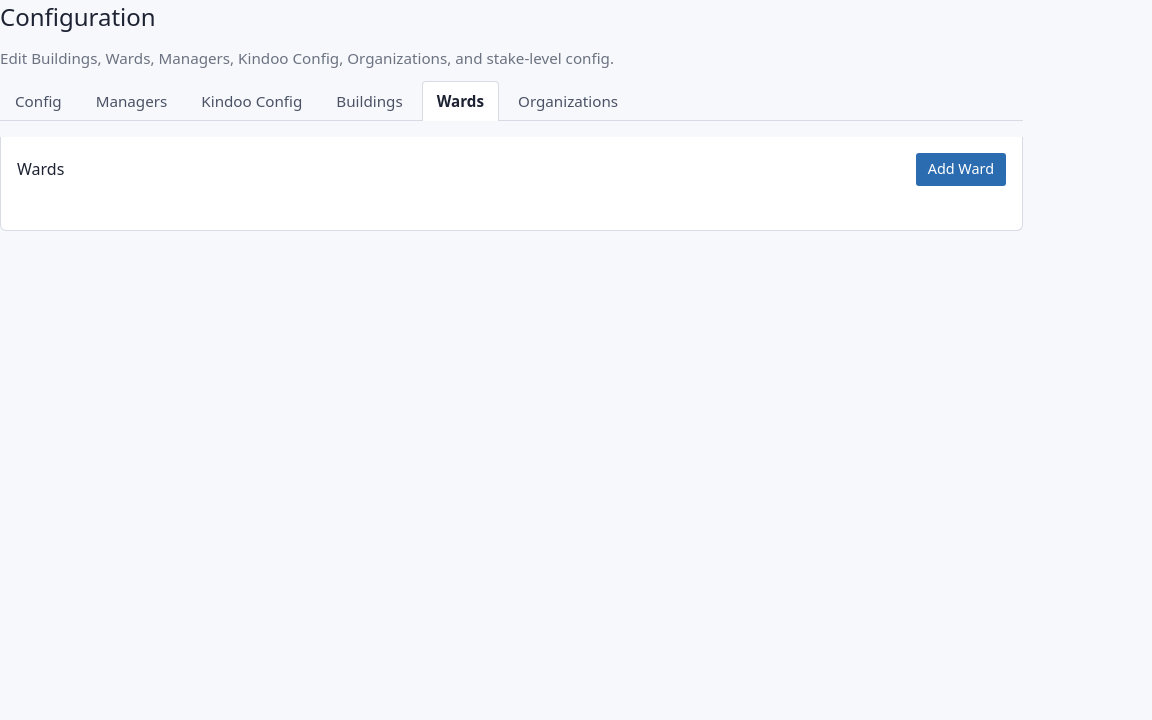
<ConfigurationPage /> › shows ward-form validation error on empty submit (modal-driven)
Click the button with test id "config-wards-add-button": (961, 169) [916, 153, 1006, 186]
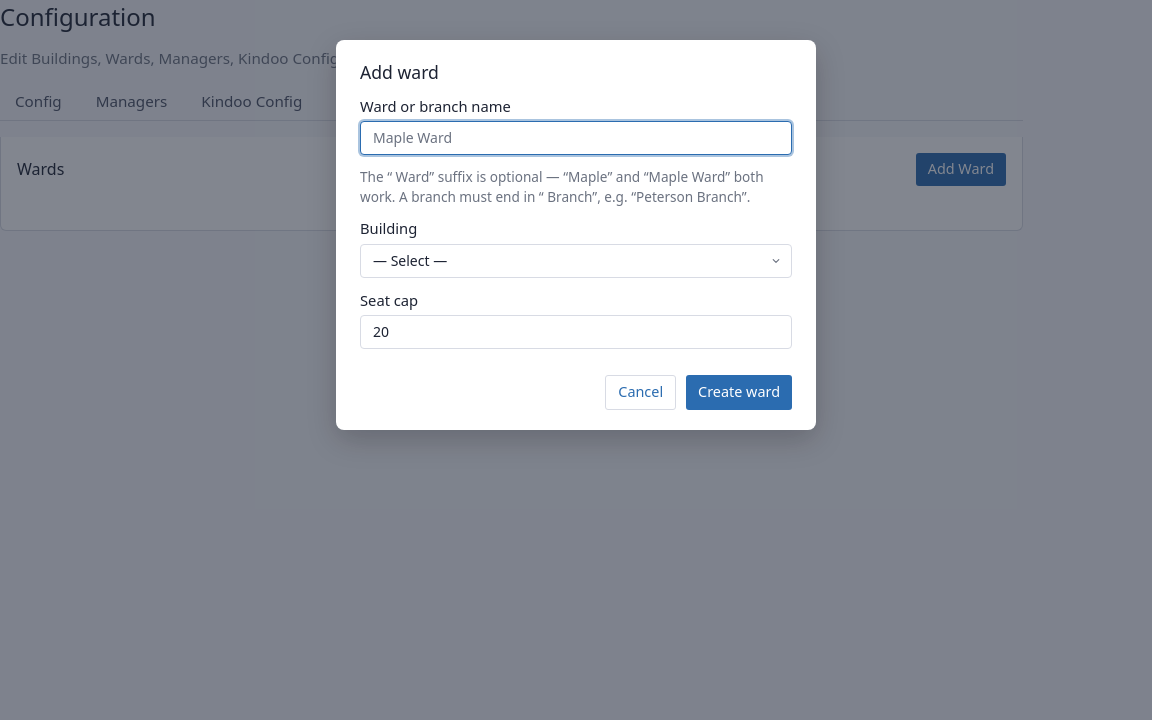
Click the button with test id "config-ward-submit": (739, 392) [686, 375, 792, 410]
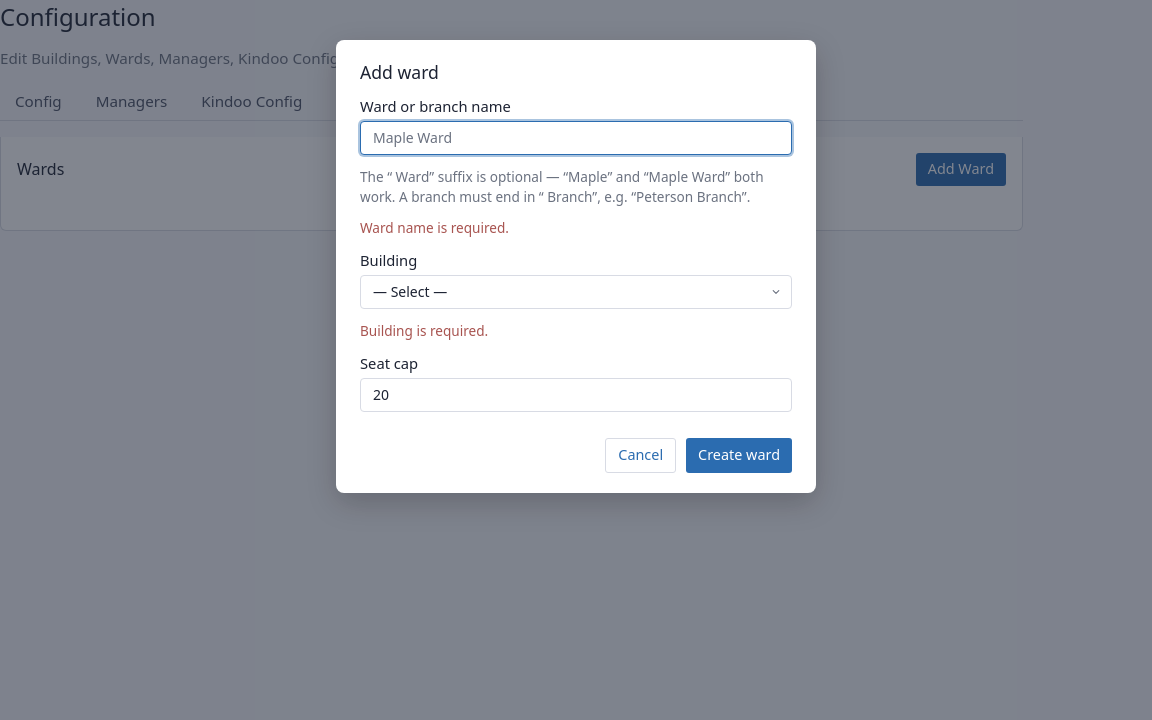
Result: the text "Ward name is required." is shown at [360, 218, 509, 237]
